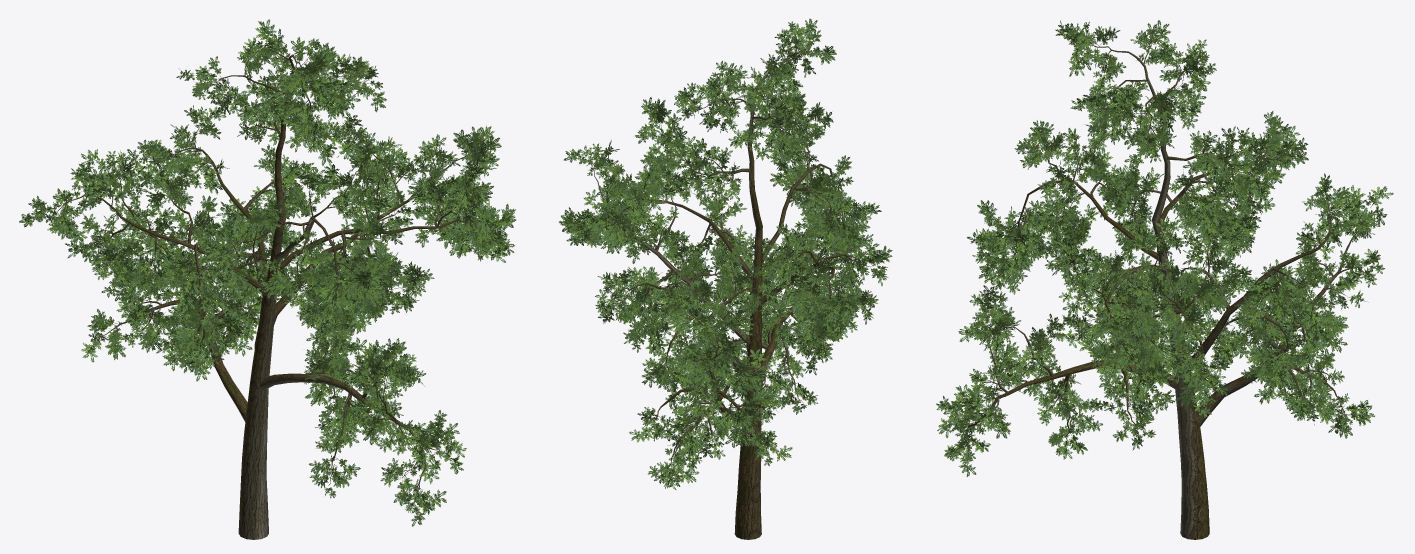
File: tree_example.glb
The picture shows the model from 3 angles, left to right: view 1: azimuth 30°, elevation 25°; view 2: azimuth 150°, elevation 25°; view 3: azimuth 270°, elevation 25°; orthographic projection. The views are drawn at different scales.
Parts seen in each view (by area): view 1: mesh_1, mesh_0; view 2: mesh_1, mesh_0; view 3: mesh_1, mesh_0.
Boxes of the visible parts, bbox=[...] form: mesh_1: bbox=[19, 19, 516, 526]; mesh_0: bbox=[47, 49, 480, 539]; mesh_1: bbox=[558, 18, 892, 490]; mesh_0: bbox=[583, 34, 871, 539]; mesh_1: bbox=[936, 20, 1393, 476]; mesh_0: bbox=[958, 36, 1367, 539].
Size of what is drawn, in the model's own units: 3.29 by 3.87 by 3.21.
2 materials, 2 textured.
